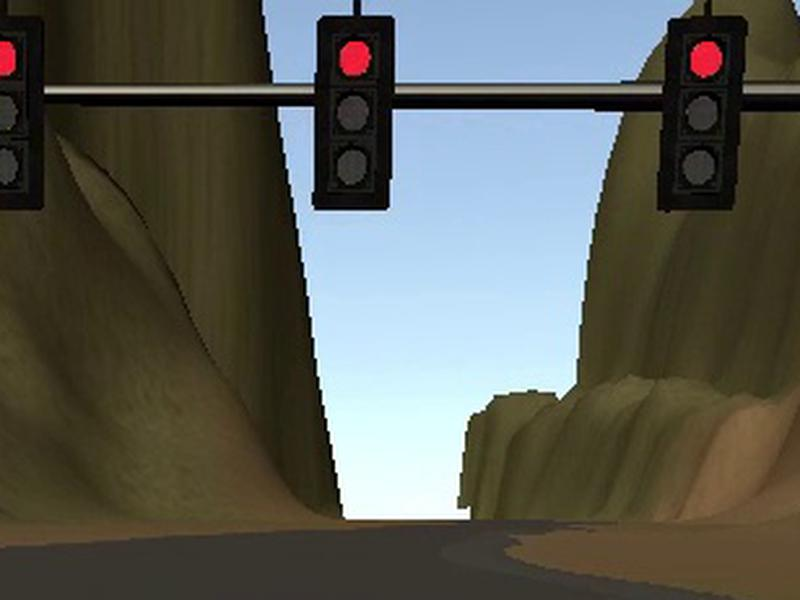Red: (655, 14, 750, 212), (310, 16, 396, 211), (1, 14, 44, 211)
